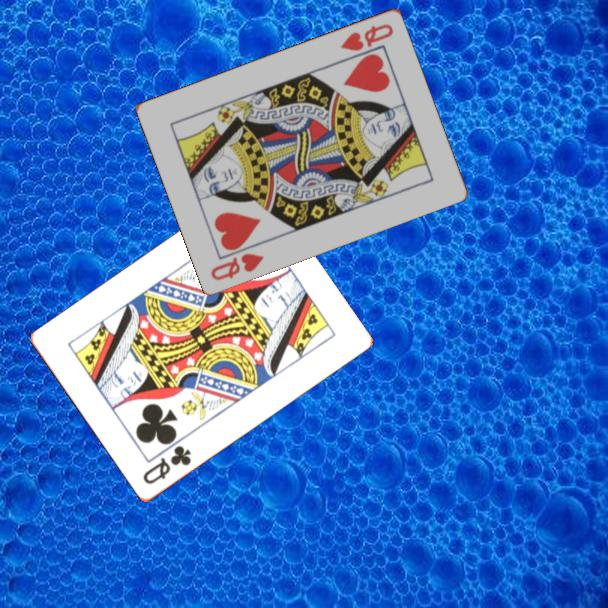c12: (139, 442, 194, 488)
h12: (207, 249, 267, 283), (337, 20, 396, 54)
